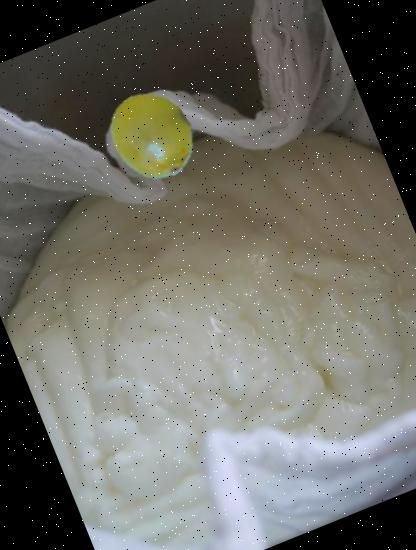Grape: (94, 76, 212, 194)
